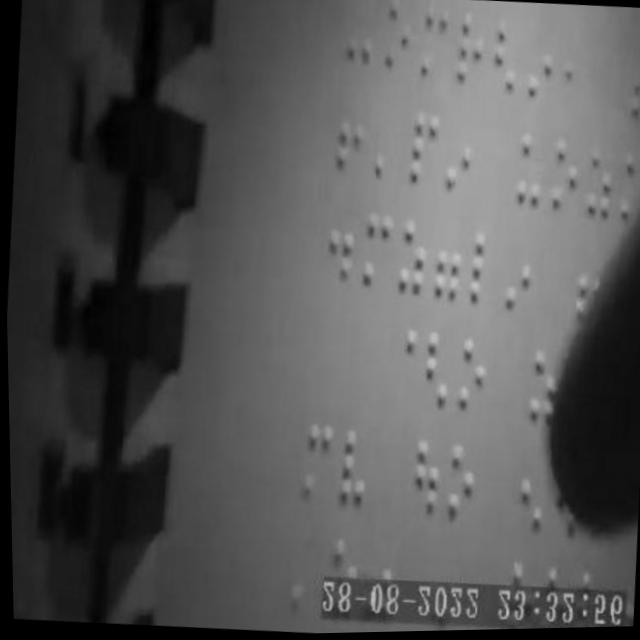braiile: (505, 440, 552, 541), (411, 319, 457, 415), (295, 414, 337, 514), (462, 224, 505, 316), (413, 0, 457, 89), (354, 210, 397, 300), (485, 4, 524, 103), (405, 434, 445, 529), (317, 208, 358, 300), (452, 1, 492, 93), (425, 220, 467, 307), (327, 92, 367, 183), (450, 328, 491, 416), (334, 423, 374, 513), (436, 439, 476, 528), (544, 137, 584, 224), (375, 0, 415, 87), (440, 106, 478, 196), (519, 342, 557, 431), (399, 106, 439, 190), (497, 229, 535, 317), (583, 141, 621, 228), (521, 24, 559, 110), (392, 218, 429, 304), (367, 108, 406, 189), (510, 129, 547, 211), (336, 0, 377, 73), (558, 29, 594, 109), (615, 147, 640, 238), (624, 44, 640, 130)
